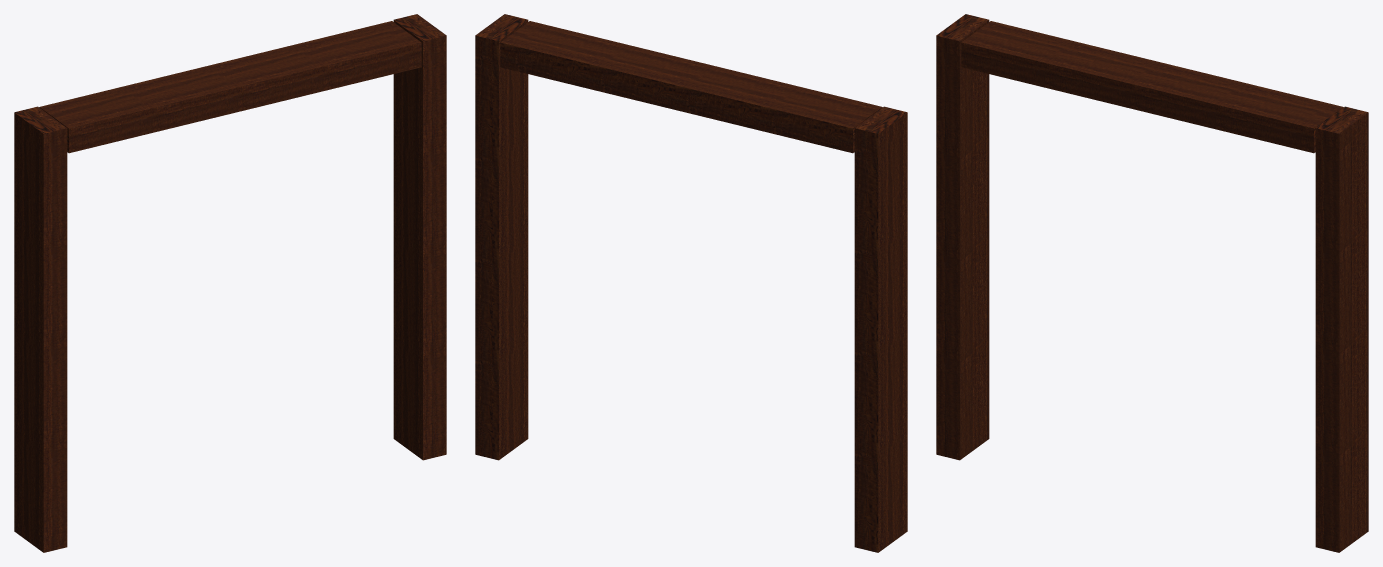
File: MuellePalo.fbx
3 renders of one model, left to right at view 1: azimuth 30°, elevation 25°; view 2: azimuth 150°, elevation 25°; view 3: azimuth 330°, elevation 25°, orthographic.
Visible parts, largest first — view 1: MuellePalo; view 2: MuellePalo; view 3: MuellePalo.
Boxes of the visible parts, x1=… form: MuellePalo: x1=14, y1=14, x2=446, y2=552; MuellePalo: x1=475, y1=14, x2=907, y2=552; MuellePalo: x1=936, y1=14, x2=1368, y2=552.
Bounding box in the file's own units: 255 × 253 × 32.34.
